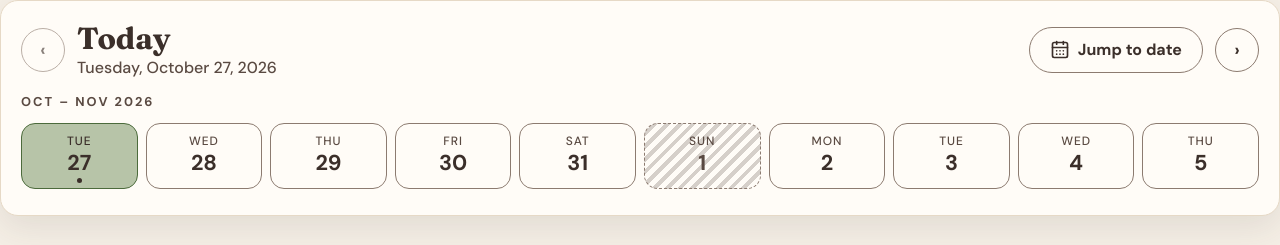
Test: DateStrip › heads with Today, Tomorrow or the weekday, with the full date
The width and height of the screenshot is (1280, 245).
Check: the heading "Today Tuesday, October 27, 2026" is shown, box [77,19,277,78]
Click the button named "Next day".
click(1237, 50)  # box [1215,28,1259,72]
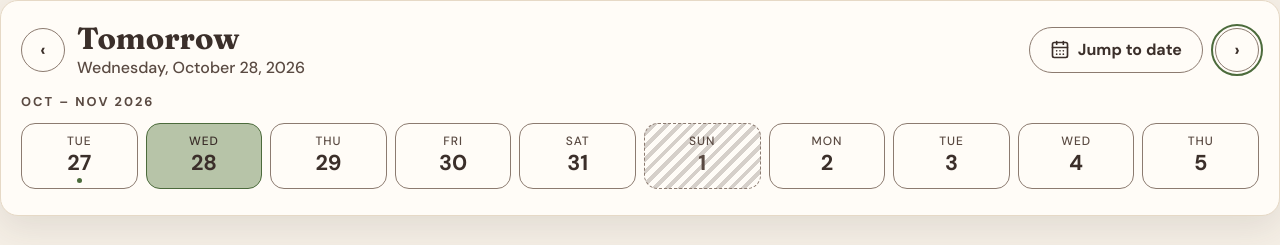
Check: the text "Tomorrow" is shown, box [77,19,240,57]
Click the button named "Next day".
click(1237, 50)  # box [1215,28,1259,72]
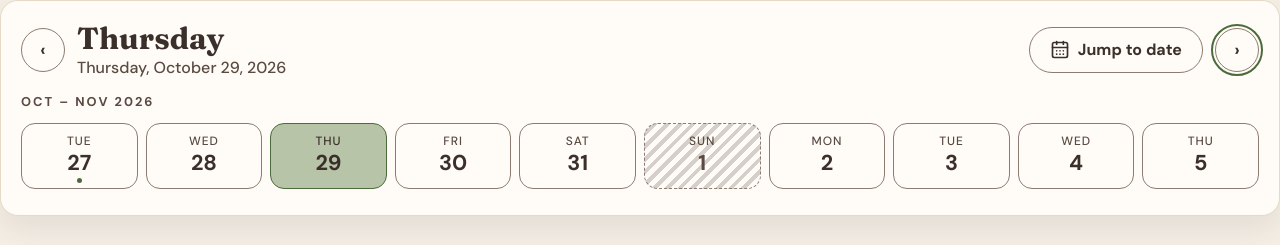
Check: the text "Thursday" is shown, box [77,19,224,57]
Check: the text "Thursday, October 29, 2026" is shown, box [77,57,286,78]
